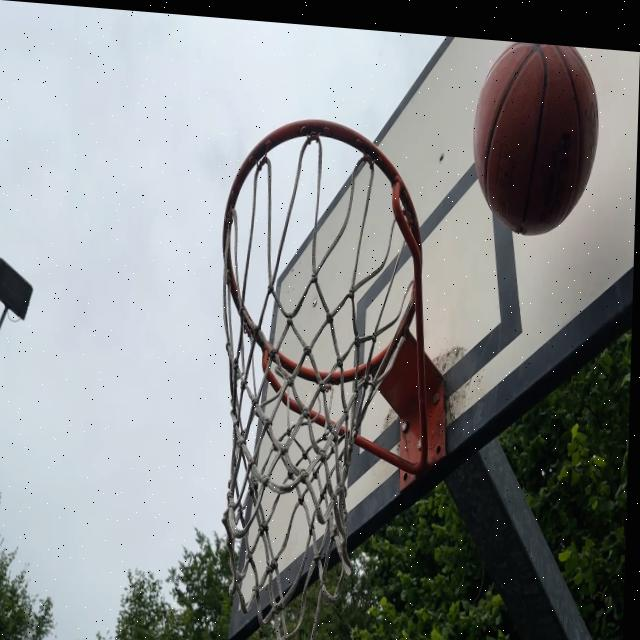Basketball: (474, 40, 603, 241)
